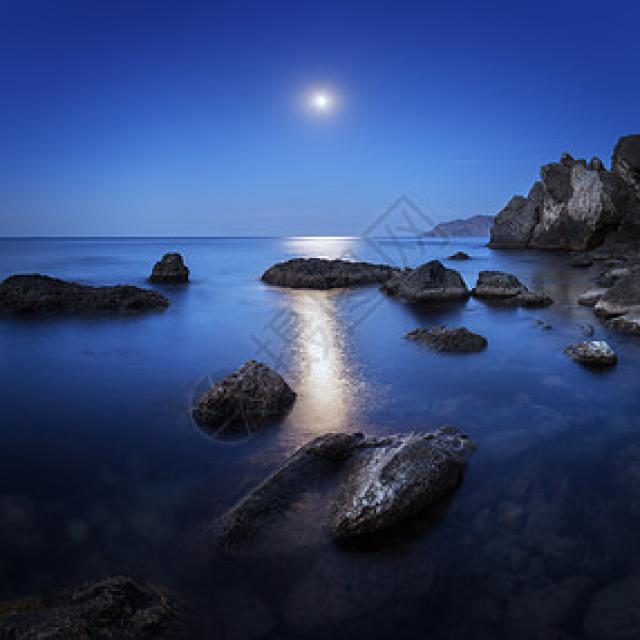reef: (278, 230, 506, 333), (0, 243, 224, 312), (166, 330, 288, 422)
